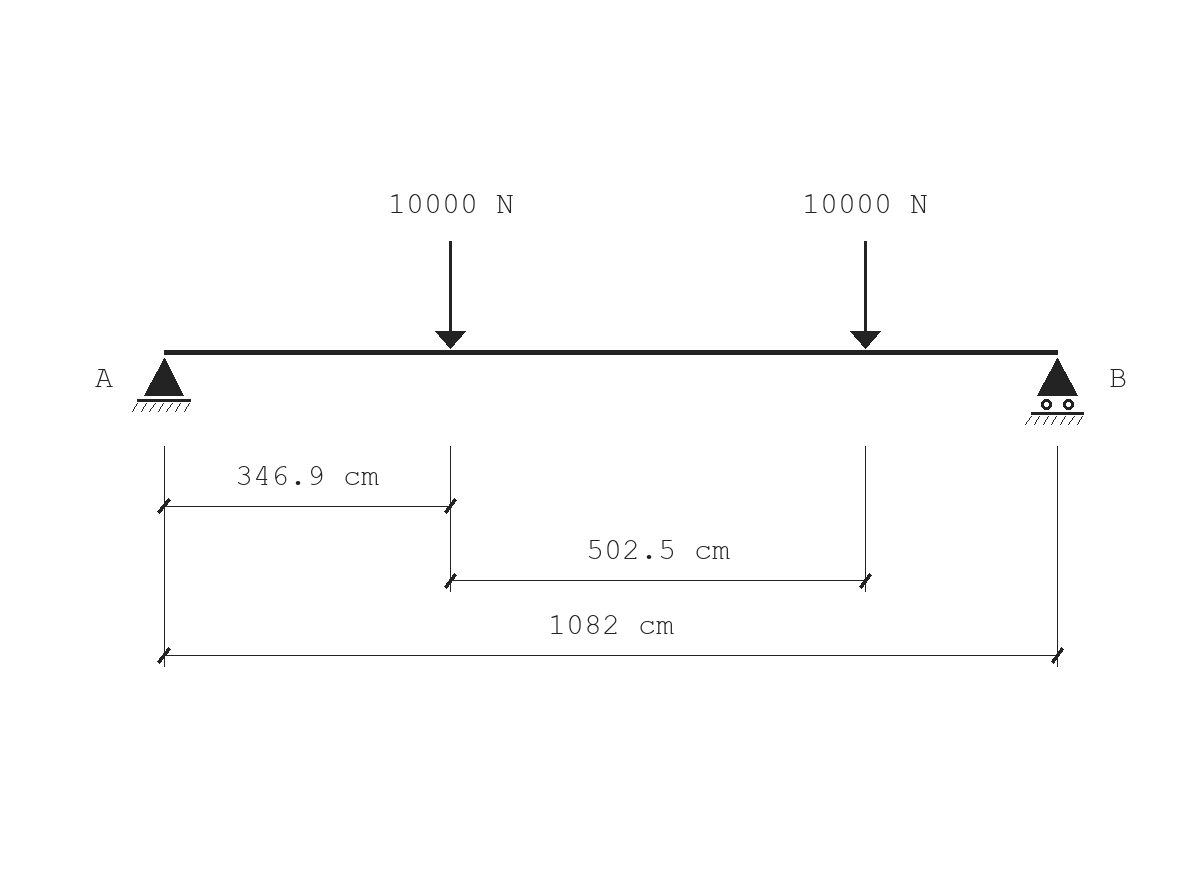pin_support: (132, 358, 191, 412)
point_load: (435, 241, 466, 349), (850, 241, 881, 349)
roller_support: (1025, 358, 1084, 425)
